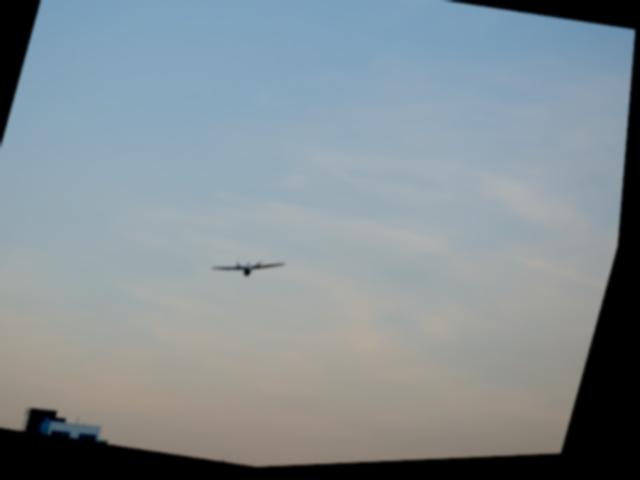plane: (214, 251, 292, 288)
